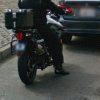Motorcycle: (1, 4, 70, 87)
